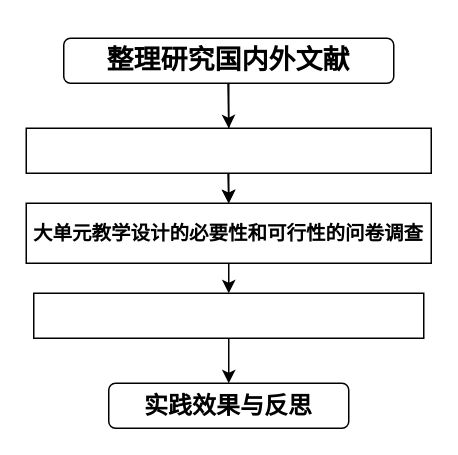
Some shapes in this 458 by 455 pixel diagram are drawn without their labels. The shapes that lost their labels are listed below. From the top down, each one's centre as x and y in pixels, then its label:
At point 228,150: "大单元的意义与特点".
At point 228,315: "大单元教学设计和准备".
